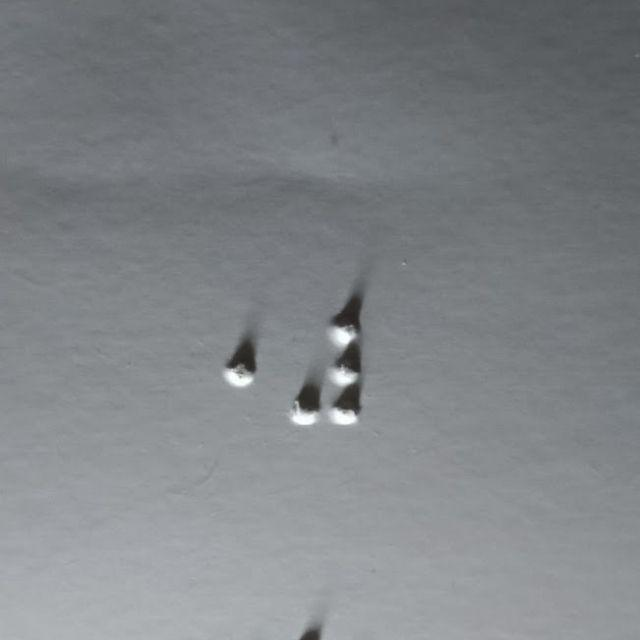bulaklak: (295, 309, 362, 426)
dot_5: (191, 309, 258, 426)
